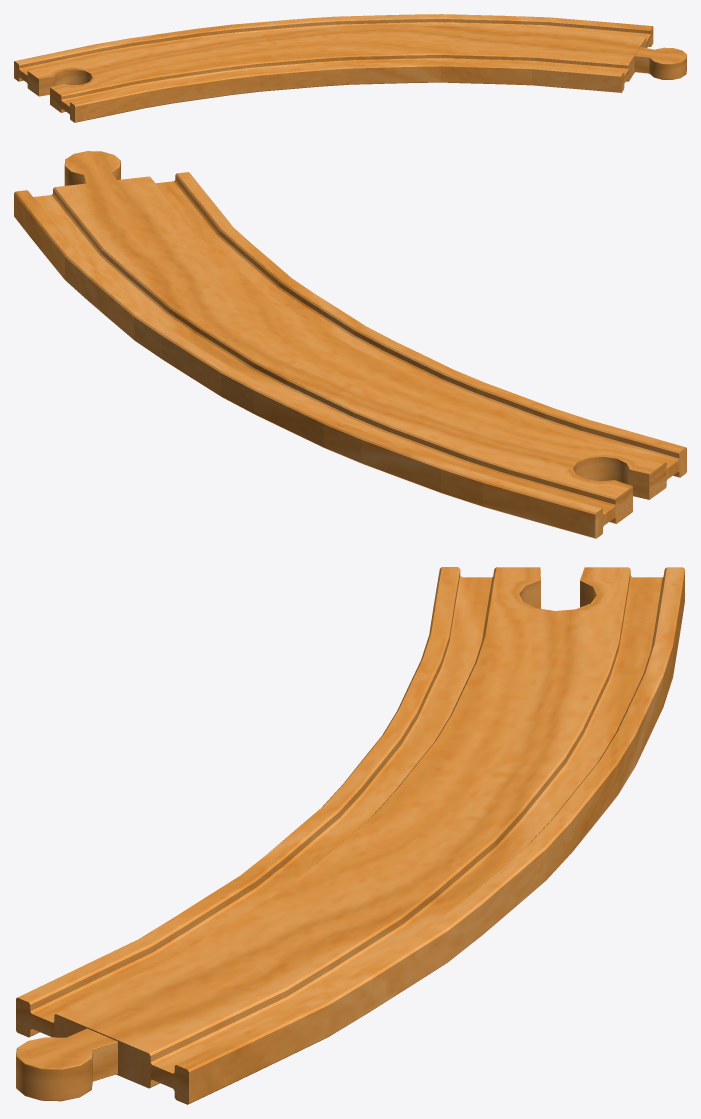
Rendered from WoodenTrack45.fbx.
3 views of the same model, one above another, from view 1: azimuth 30°, elevation 25°; view 2: azimuth 150°, elevation 25°; view 3: azimuth 270°, elevation 25° (orthographic). The views are drawn at different scales.
Visible parts, largest first — view 1: Track45; view 2: Track45; view 3: Track45.
Boxes of the visible parts, bbox=[...] form: Track45: bbox=[14, 14, 686, 122]; Track45: bbox=[14, 151, 686, 538]; Track45: bbox=[16, 567, 684, 1104].
Bounding box in the file's own units: 11.65 × 0.3786 × 6.55.
